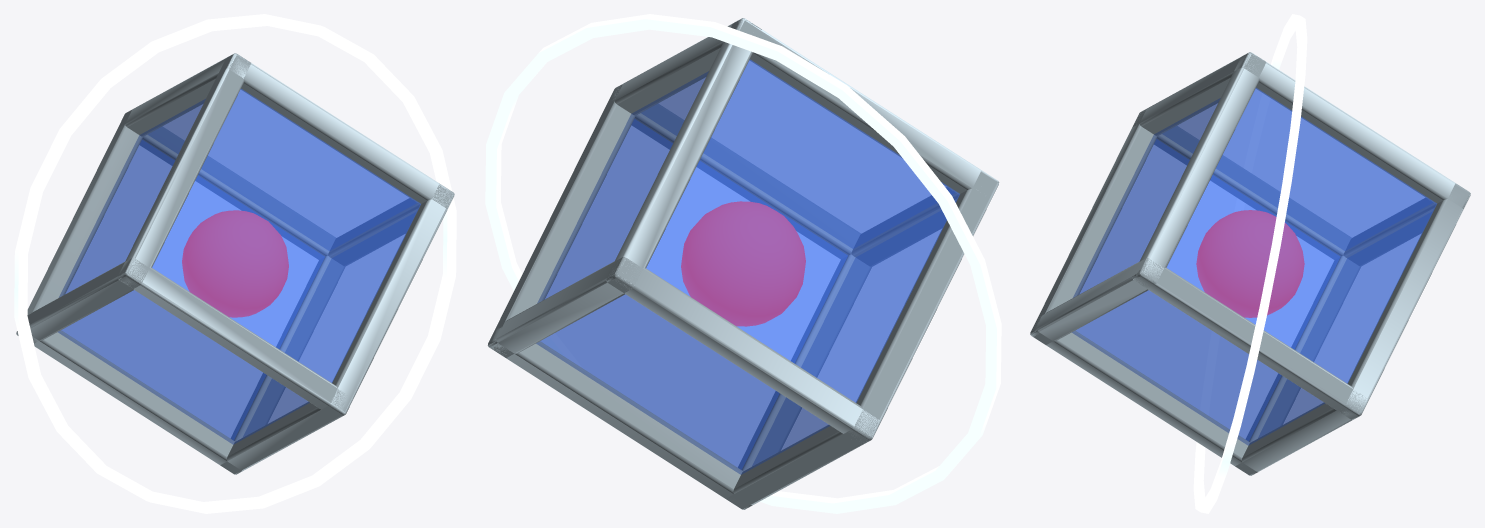
The model's file is alien_cube.glb.
3 views of the same model, side by side, from view 1: azimuth 30°, elevation 25°; view 2: azimuth 150°, elevation 25°; view 3: azimuth 270°, elevation 25° (orthographic). The views are drawn at different scales.
Parts seen in each view (by area): view 1: block, halo, heart, bar.005, bar.007, bar.003, bar.001, bar.004, bar.002, bar.006, bar, bar.009 (+3 smaller); view 2: block, halo, heart, bar.002, bar, bar.009, bar.011, bar.010, bar.001, bar.008, bar.003, bar.006 (+3 smaller); view 3: block, heart, halo, bar.010, bar.011, bar.007, bar.008, bar.006, bar.005, bar.009, bar.004, bar.001 (+3 smaller).
Part boxes in pixels (box(x1,y1,x2,y2)): block: box(58, 89, 420, 444); halo: box(14, 14, 456, 513); heart: box(182, 210, 288, 317); bar.005: box(118, 258, 352, 416); bar.007: box(219, 53, 453, 208); bar.003: box(118, 53, 250, 286); bar.001: box(321, 183, 454, 418); bar.004: box(34, 330, 241, 474); bar.002: box(27, 124, 142, 343); bar.006: box(118, 109, 335, 259); bar: box(220, 256, 344, 474); bar.009: box(16, 258, 149, 343); block: box(536, 59, 959, 474); halo: box(485, 14, 1001, 513); heart: box(681, 201, 805, 326); bar.002: box(606, 257, 880, 443); bar: box(488, 327, 752, 509); bar.009: box(844, 170, 999, 441); bar.011: box(606, 18, 761, 293); bar.010: box(487, 83, 635, 357); bar.001: box(611, 86, 860, 258); bar.008: box(726, 254, 871, 509); bar.003: box(731, 18, 998, 194); bar.006: box(488, 257, 642, 353); block: box(1072, 88, 1436, 445); heart: box(1196, 210, 1304, 317); halo: box(1193, 14, 1307, 513); bar.010: box(1132, 258, 1367, 419); bar.011: box(1234, 52, 1470, 208); bar.007: box(1132, 53, 1265, 289); bar.008: box(1031, 315, 1257, 472); bar.006: box(1340, 183, 1469, 419); bar.005: box(1030, 109, 1156, 344); bar.009: box(1132, 110, 1351, 259); bar.004: box(1235, 256, 1360, 475); bar.001: box(1030, 258, 1163, 341).
Size of the model in its own units: 1.88 by 1.85 by 1.63.
